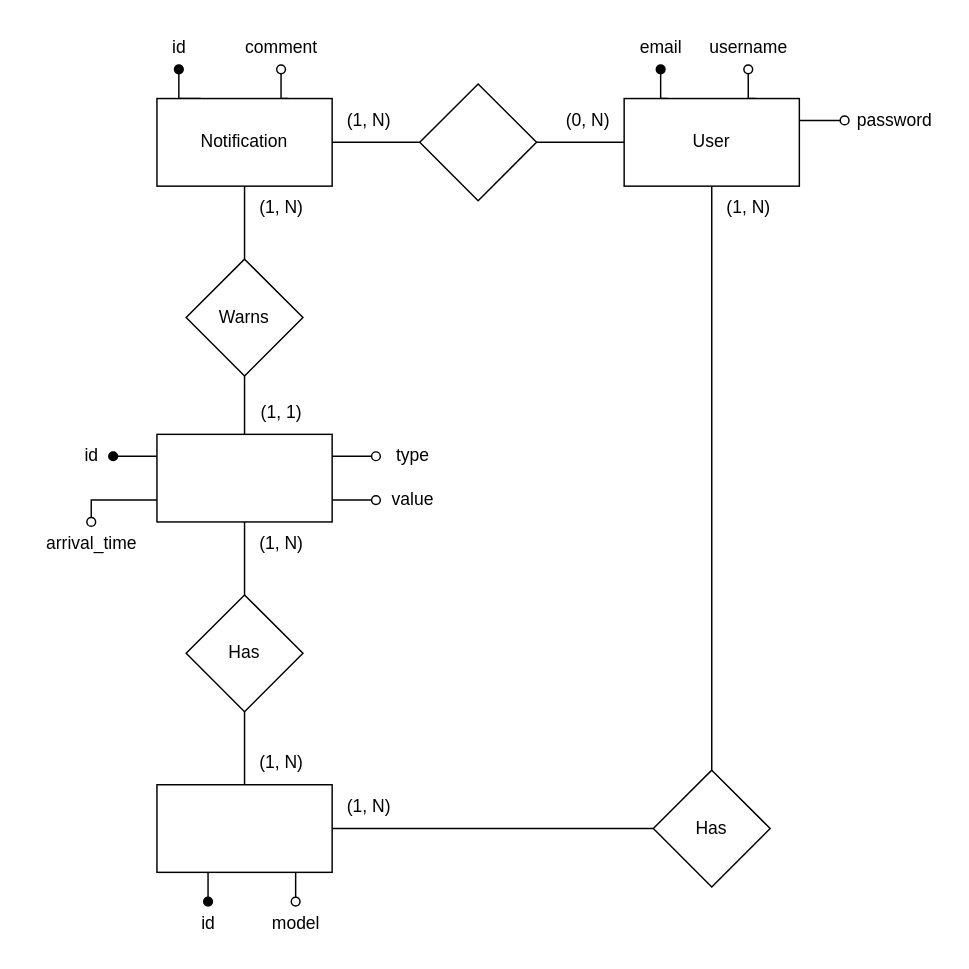
Image size: 969x969. Some labels were removed from this diagram. Each missing label, with the centre of its shape:
"Device" belongs at (243,827).
"Notifies" belongs at (477,141).
"Sensor" belongs at (243,477).
